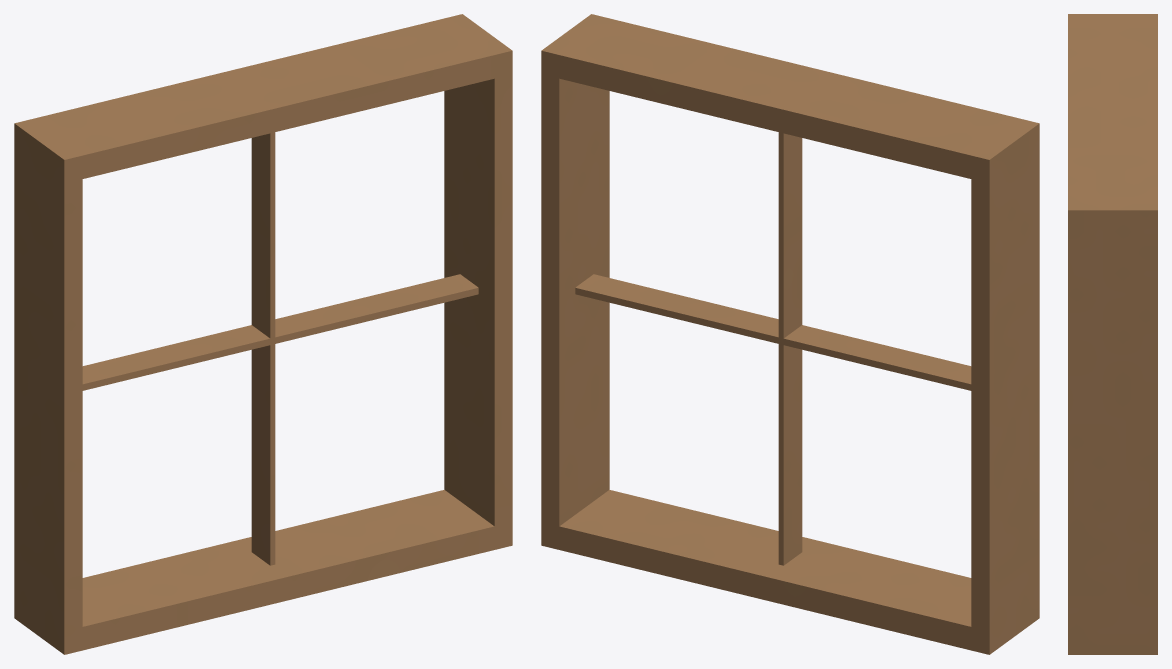
File: Window_01.fbx
3 renders of one model, left to right at view 1: azimuth 30°, elevation 25°; view 2: azimuth 150°, elevation 25°; view 3: azimuth 270°, elevation 25°, orthographic. The views are drawn at different scales.
Visible parts, largest first — view 1: Window_01; view 2: Window_01; view 3: Window_01.
Boxes of the visible parts, bbox=[...] form: Window_01: bbox=[14, 14, 512, 654]; Window_01: bbox=[541, 14, 1039, 654]; Window_01: bbox=[1068, 14, 1157, 654].
Size of the model in its own units: 1 by 1.06 by 0.1938.
